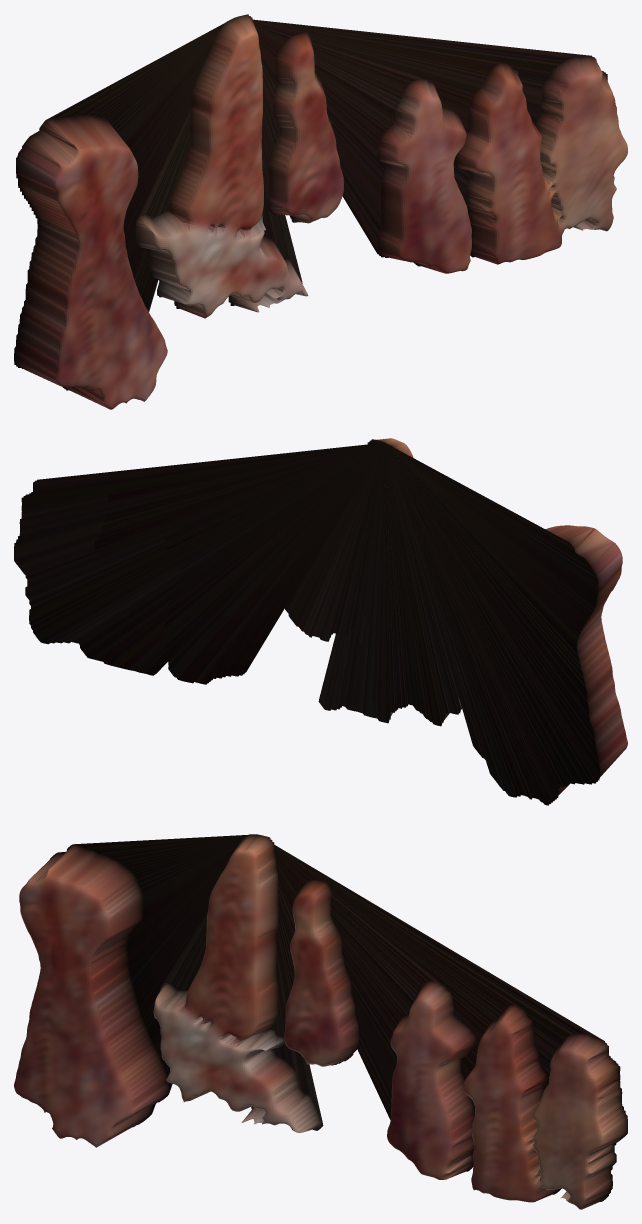
File: rock_10_hollow.glb
3 views of the same model, one above another, from view 1: azimuth 30°, elevation 25°; view 2: azimuth 150°, elevation 25°; view 3: azimuth 330°, elevation 25° (orthographic). The views are drawn at different scales.
Parts seen in each view (by area): view 1: GLTF; view 2: GLTF; view 3: GLTF.
Boxes of the visible parts, <box> form: GLTF: <box>14,14,627,409</box>; GLTF: <box>14,438,627,805</box>; GLTF: <box>14,834,627,1209</box>.
Bounding box in the file's own units: 6.78 × 3.58 × 0.7919.
